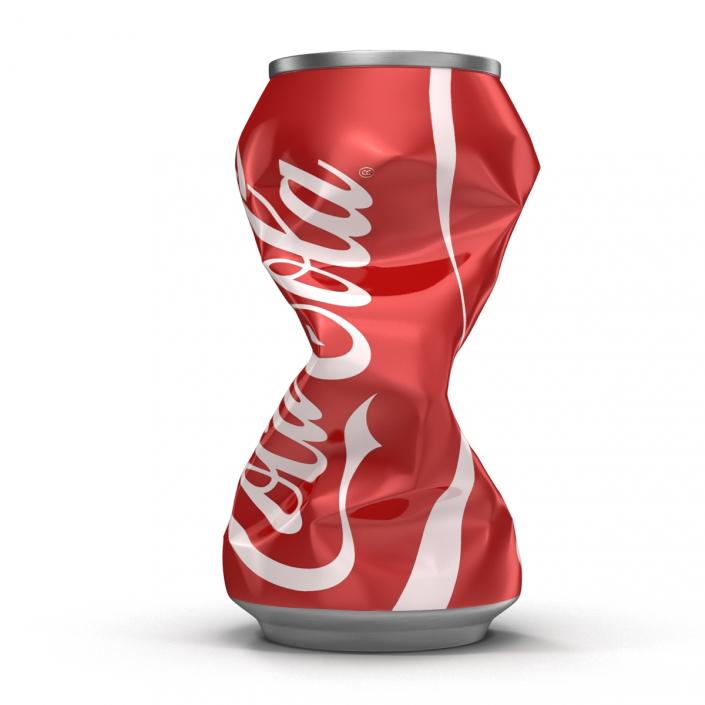can: (222, 48, 542, 653)
